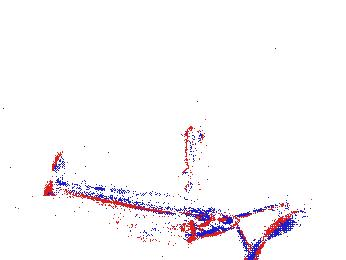X-ray fish: (182, 123, 219, 195)
glassfish: (42, 171, 241, 244), (245, 200, 311, 260)
